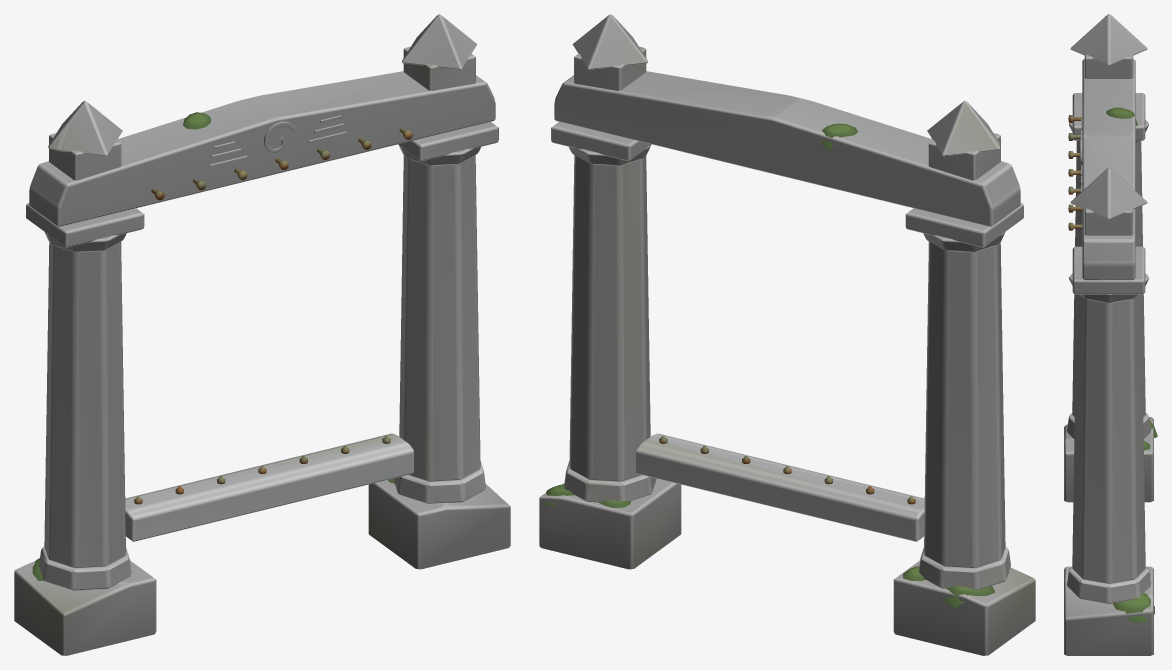
File: mech_harp.glb
3 renders of one model, left to right at view 1: azimuth 30°, elevation 25°; view 2: azimuth 150°, elevation 25°; view 3: azimuth 270°, elevation 25°, orthographic. The views are drawn at different scales.
Visible parts, largest first — view 1: mech_harp_LOD0; view 2: mech_harp_LOD0; view 3: mech_harp_LOD0.
Part boxes in pixels (bbox=[...]): mech_harp_LOD0: bbox=[14, 14, 510, 655]; mech_harp_LOD0: bbox=[539, 14, 1035, 655]; mech_harp_LOD0: bbox=[1064, 14, 1157, 655].
Size of what is drawn, in the model's own units: 3.82 by 4.26 by 0.7726.
